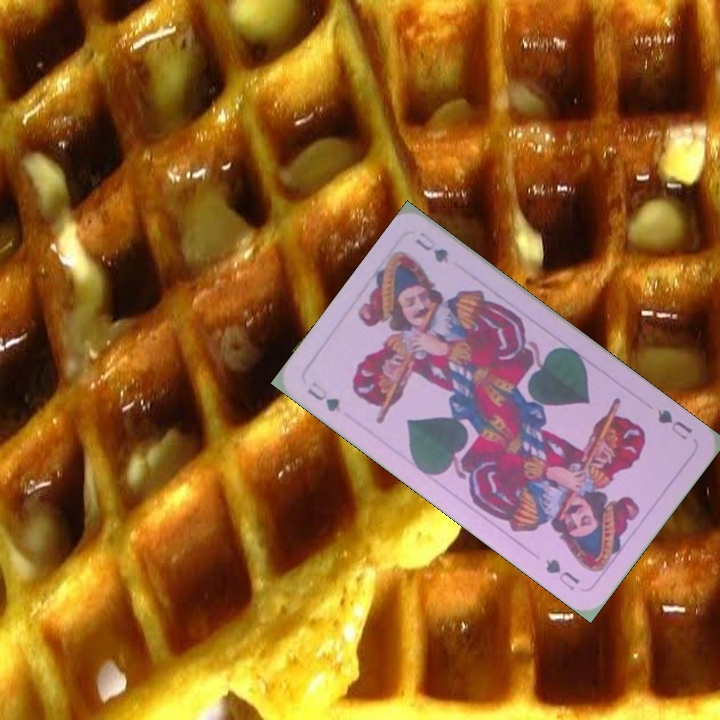GU: (653, 405, 695, 443), (303, 377, 343, 415)
